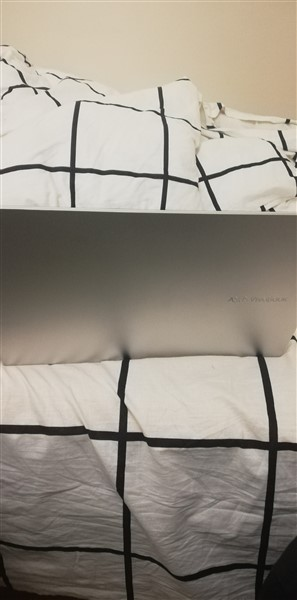laptop: (1, 198, 297, 363)
